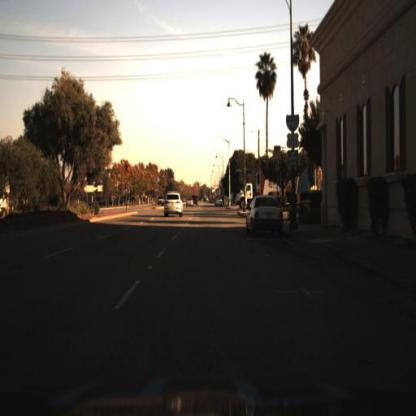car: (247, 195, 287, 235), (161, 190, 190, 222), (182, 193, 199, 214), (156, 194, 165, 209)
truck: (236, 171, 319, 211), (235, 174, 255, 214)
